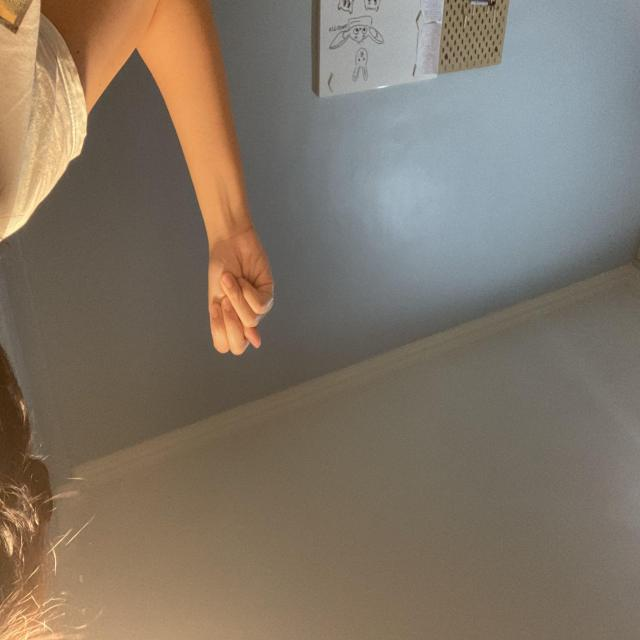N: (367, 284, 432, 412)
